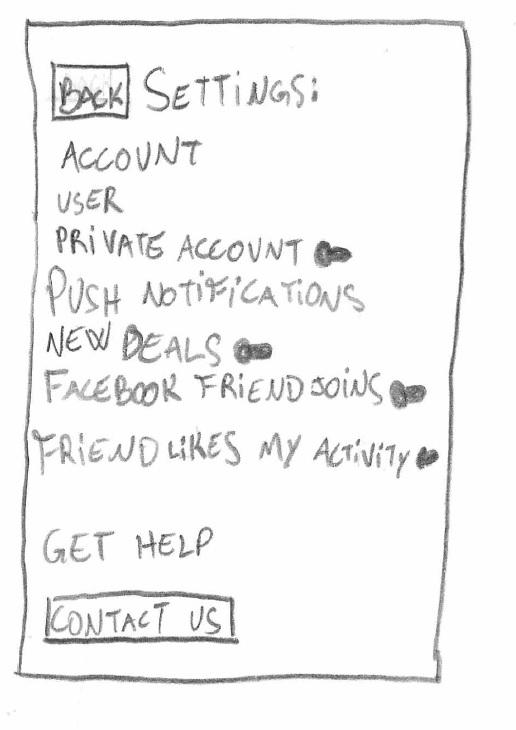Button: (43, 591, 238, 644), (49, 62, 130, 122)
Label: (48, 267, 365, 317), (141, 65, 320, 114), (44, 527, 215, 566), (61, 139, 202, 172), (56, 186, 124, 217)
Screen: (11, 20, 471, 685)
Switch: (34, 429, 442, 478), (55, 224, 354, 272), (43, 371, 430, 408), (46, 322, 273, 367)
